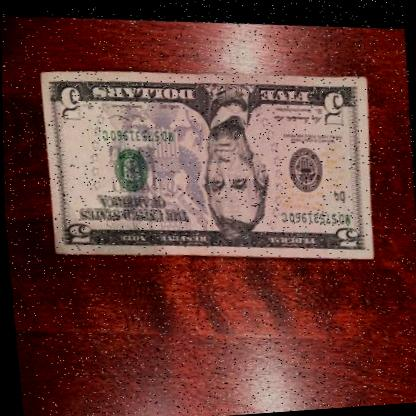five-front: (35, 42, 383, 281)
